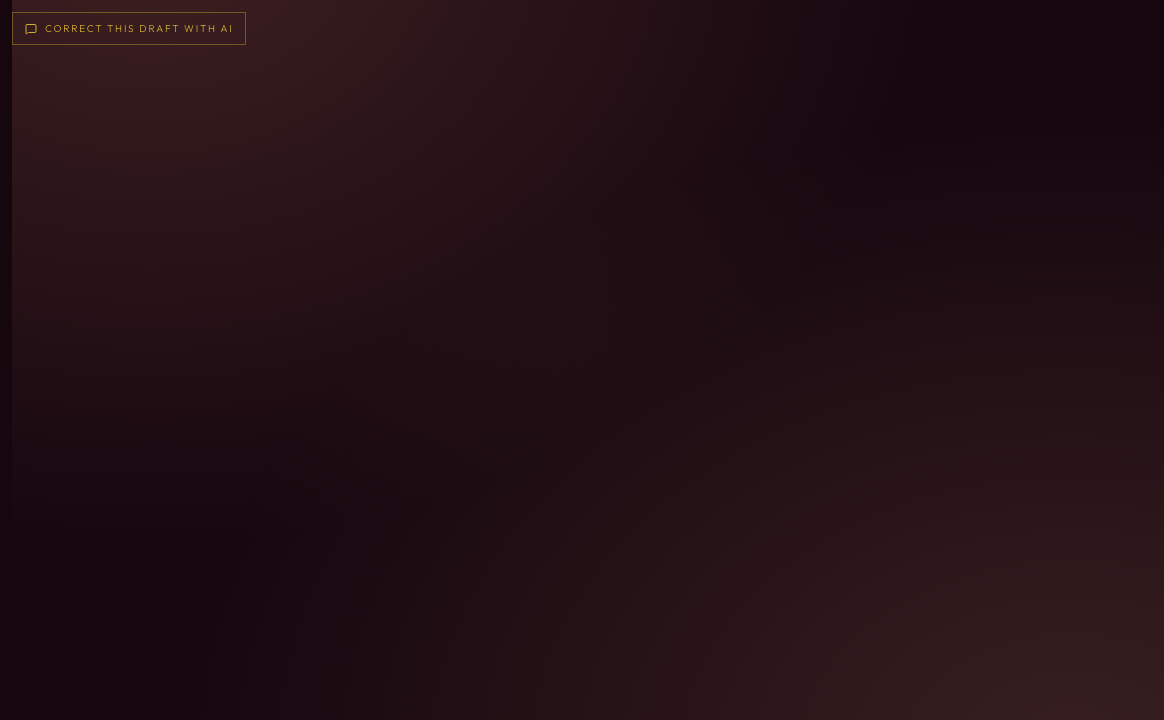
Scenario: keeps the compact batch conversation collapsed until requested
Check: the field with placeholder "For example" is not shown
Click the button "Correct this draft with AI" at (129, 28), box x1=12 y1=12 x2=246 y2=45
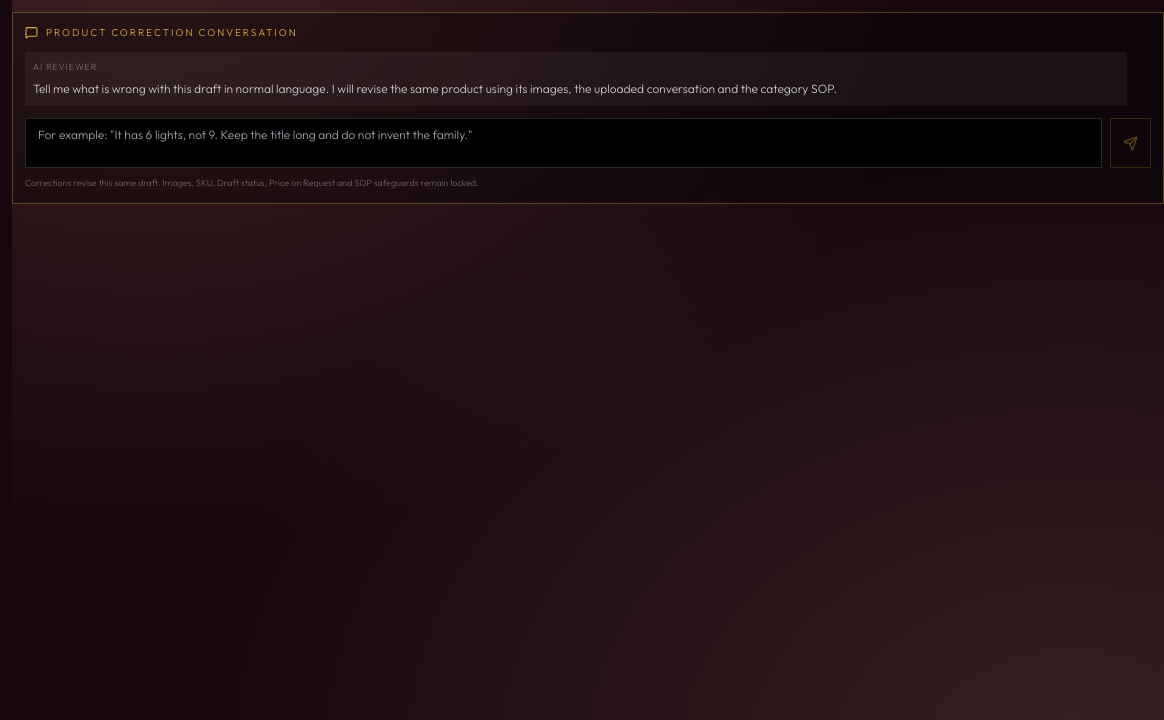
Check: the text box with placeholder "For example" is shown, box x1=25 y1=118 x2=1102 y2=168
